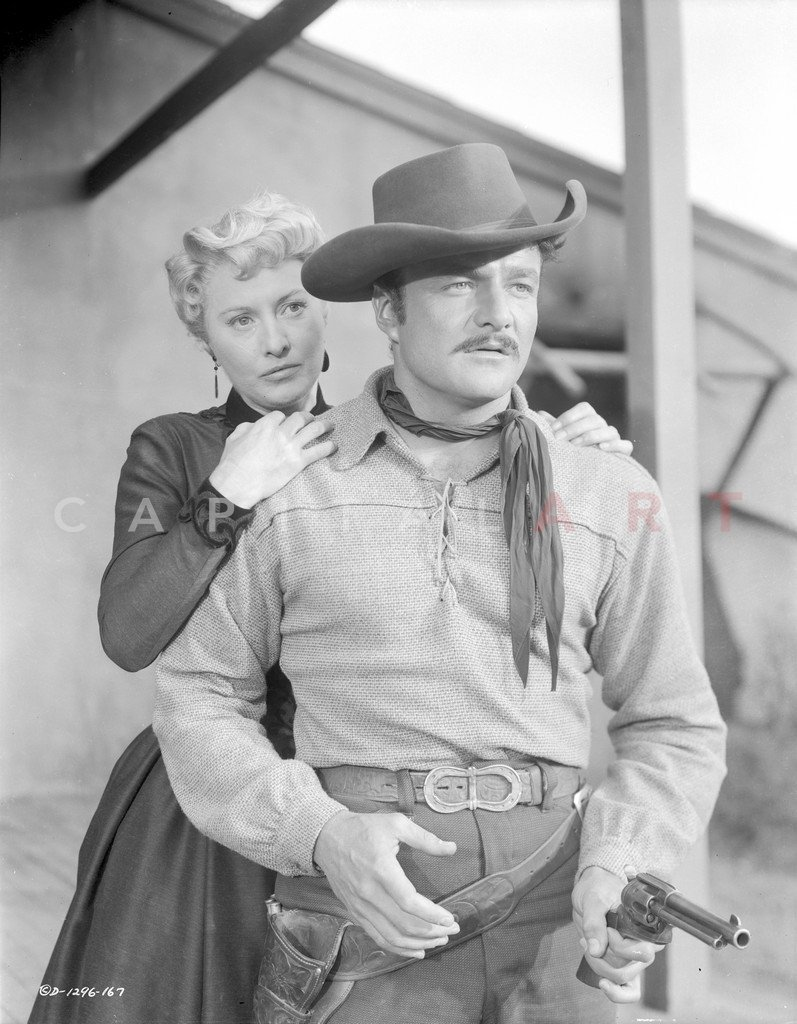Revolver: (567, 845, 752, 995), (580, 845, 752, 995)
